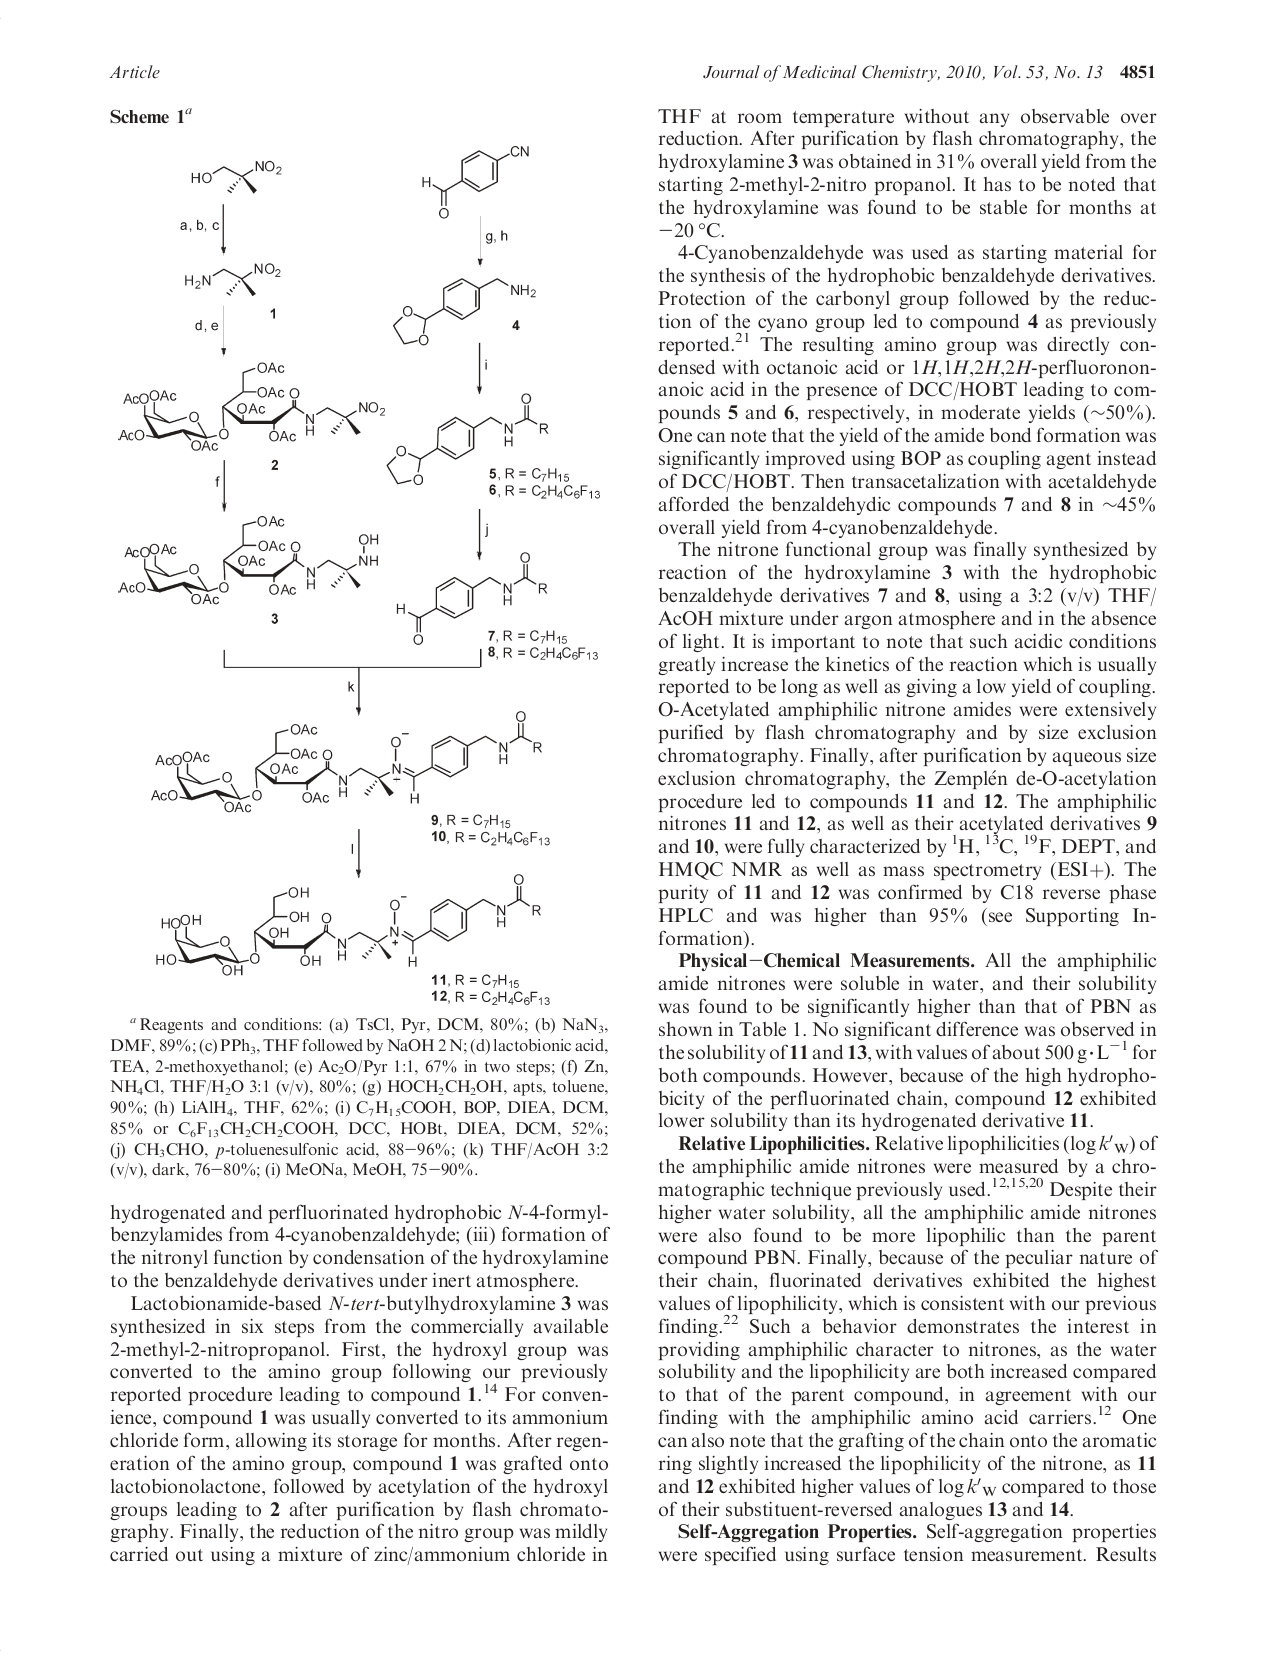exist_molecular: (141, 700, 553, 821), (152, 870, 551, 980), (118, 348, 392, 461), (109, 516, 388, 618), (392, 547, 559, 652), (378, 394, 548, 487), (388, 273, 536, 354), (420, 138, 535, 226), (184, 255, 290, 302), (188, 152, 290, 199)
